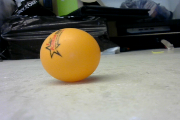PingPongBall: (40, 27, 100, 83)
